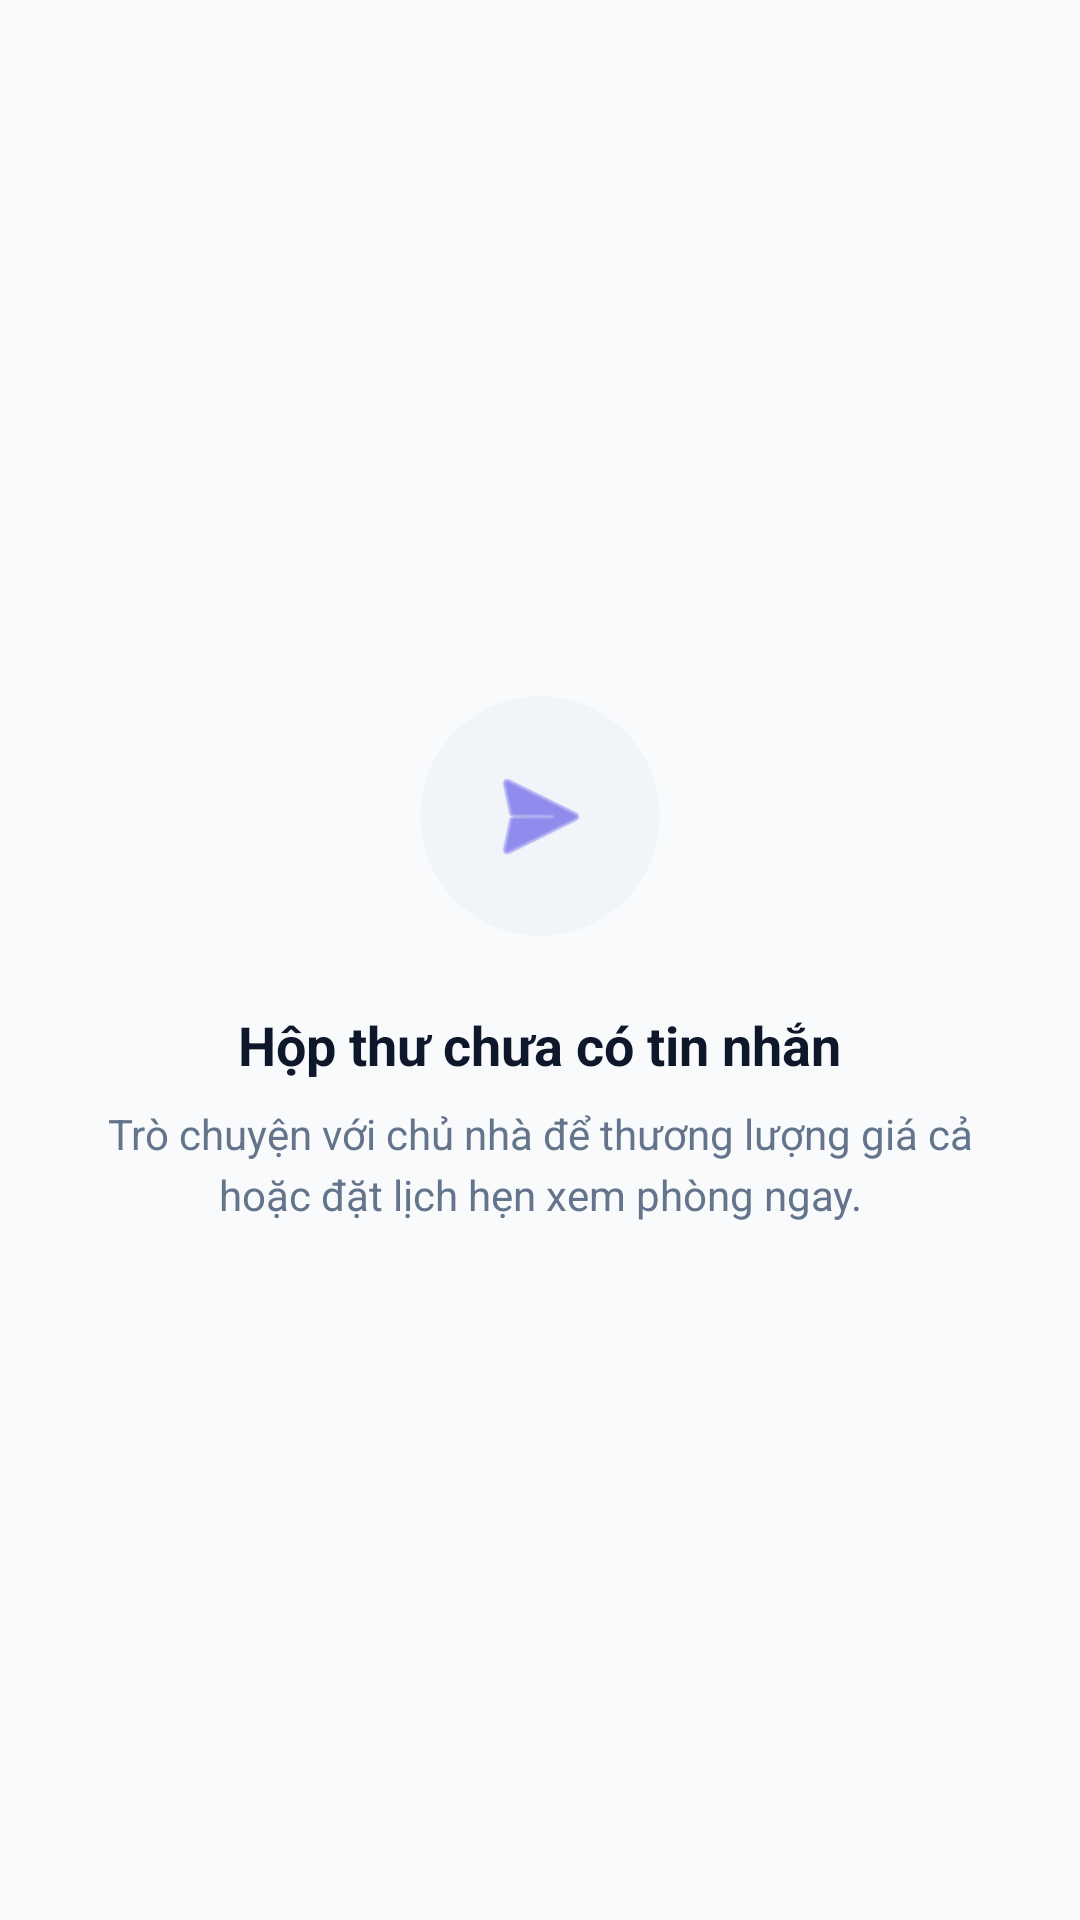

Icons on this 1080 × 1920 Android screen, each with the point to tap as (x,y):
Chat Empty Icon: (541,816)
